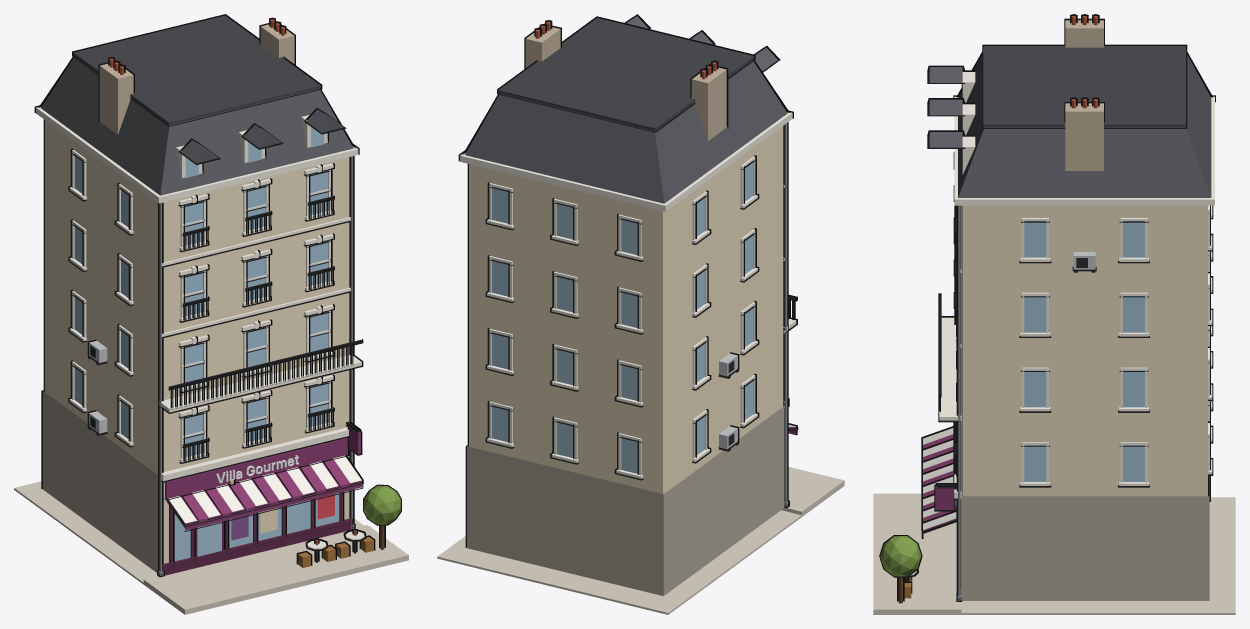
File: Dukkan_villa_gourmet.fbx
3 views of the same model, side by side, from view 1: azimuth 30°, elevation 25°; view 2: azimuth 150°, elevation 25°; view 3: azimuth 270°, elevation 25° (orthographic). The views are drawn at different scales.
Parts seen in each view (by area): view 1: Dukkan_villa_gourmet; view 2: Dukkan_villa_gourmet; view 3: Dukkan_villa_gourmet.
Part boxes in pixels (x1,y1,x2,y2): Dukkan_villa_gourmet: (14,14,408,614); Dukkan_villa_gourmet: (437,14,844,614); Dukkan_villa_gourmet: (873,14,1235,614).
Size of the model in its own units: 10.15 by 20.06 by 13.18.
